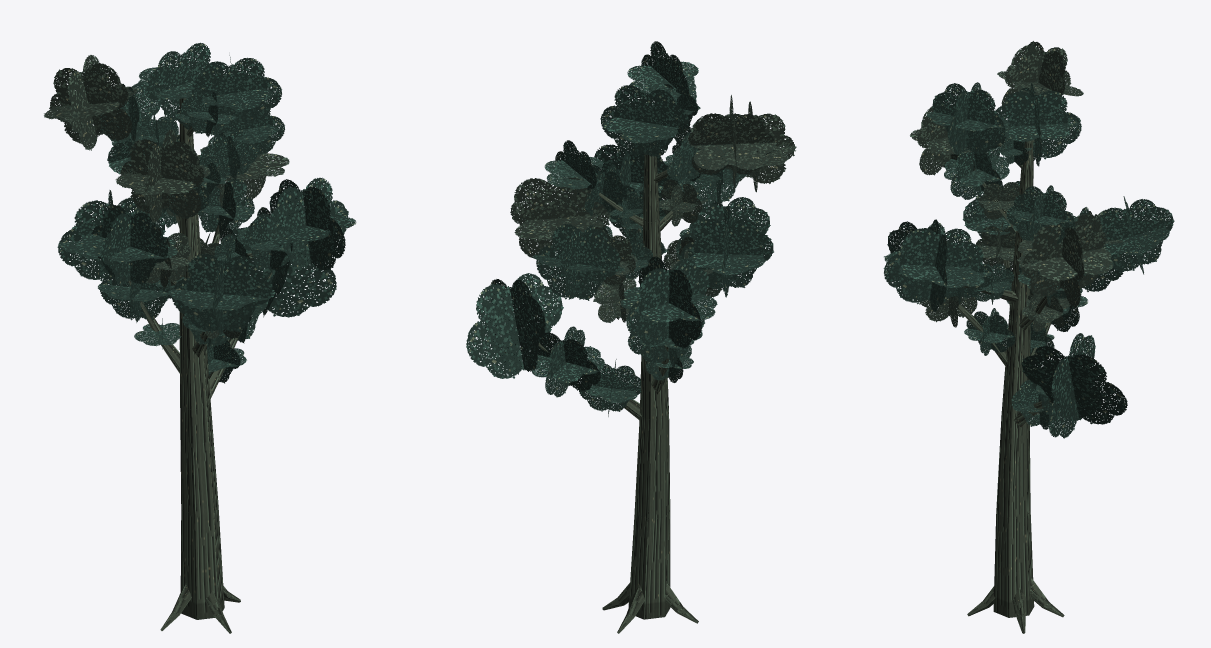
Rendered from SM_Forest_Tree_LeafyB_750x700x1190.fbx.
The picture shows the model from 3 angles, left to right: view 1: azimuth 30°, elevation 25°; view 2: azimuth 150°, elevation 25°; view 3: azimuth 270°, elevation 25°; orthographic projection. The views are drawn at different scales.
Parts seen in each view (by area): view 1: SM_Forest_Tree_LeafyB_750x700x1190.044; view 2: SM_Forest_Tree_LeafyB_750x700x1190.044; view 3: SM_Forest_Tree_LeafyB_750x700x1190.044.
Boxes of the visible parts, x1,y1,x2,y2 form: SM_Forest_Tree_LeafyB_750x700x1190.044: (44,42,356,633); SM_Forest_Tree_LeafyB_750x700x1190.044: (466,41,796,633); SM_Forest_Tree_LeafyB_750x700x1190.044: (883,41,1174,633).
Bounding box in the file's own units: 7.53 × 12 × 7.01.
